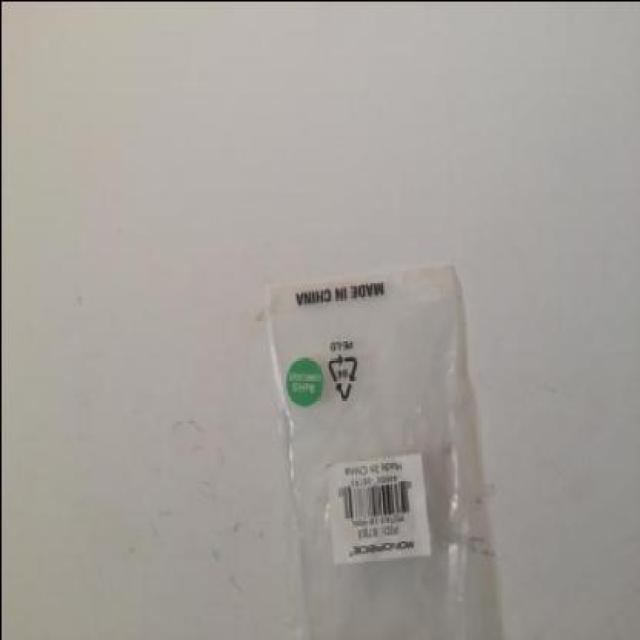PLASTIC: (265, 263, 472, 639)
